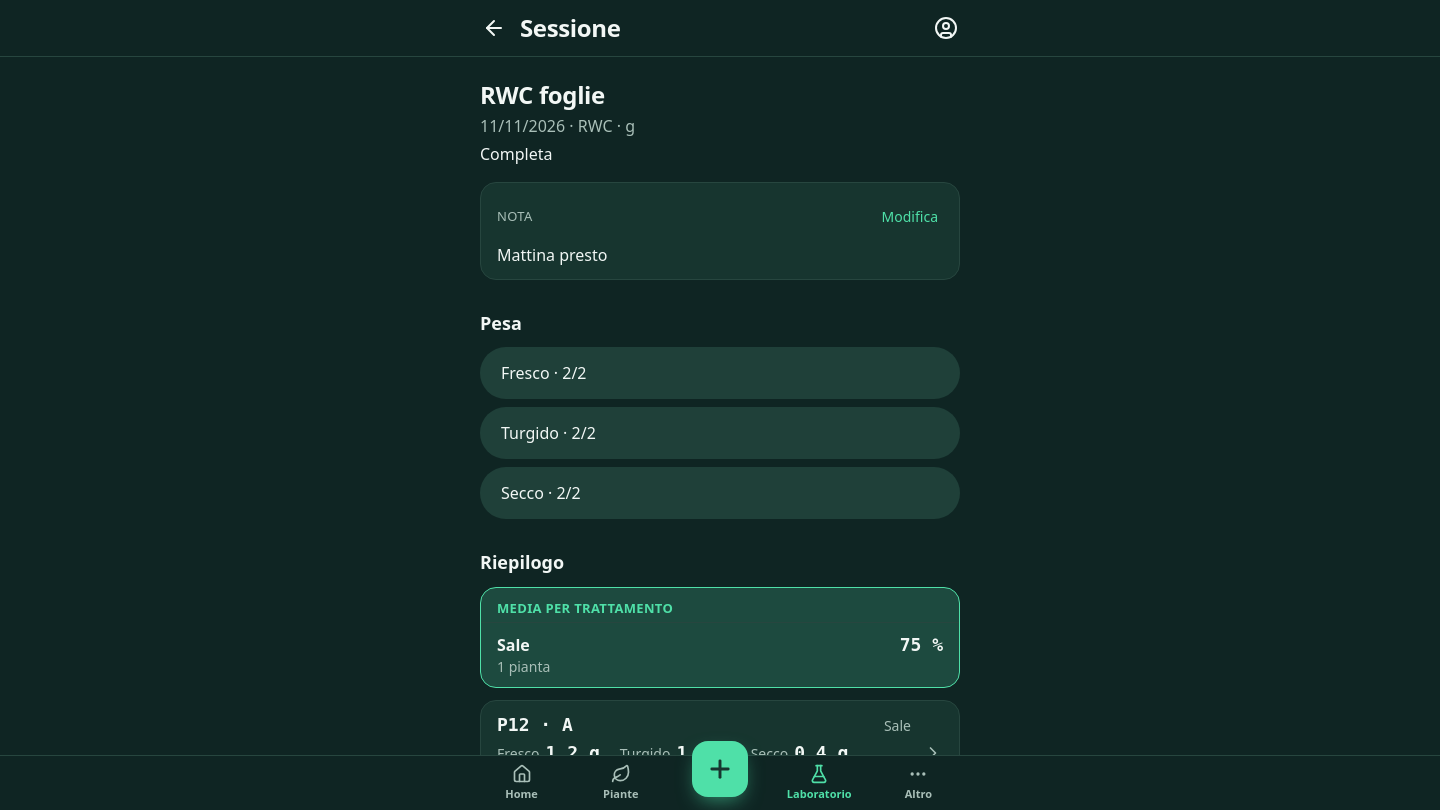
Test: Sessione › una nota svuotata si toglie; un errore lascia il testo nel campo
This screenshot has width=1440, height=810.
Click the button "Modifica" at (910, 217), box [869, 195, 951, 239]
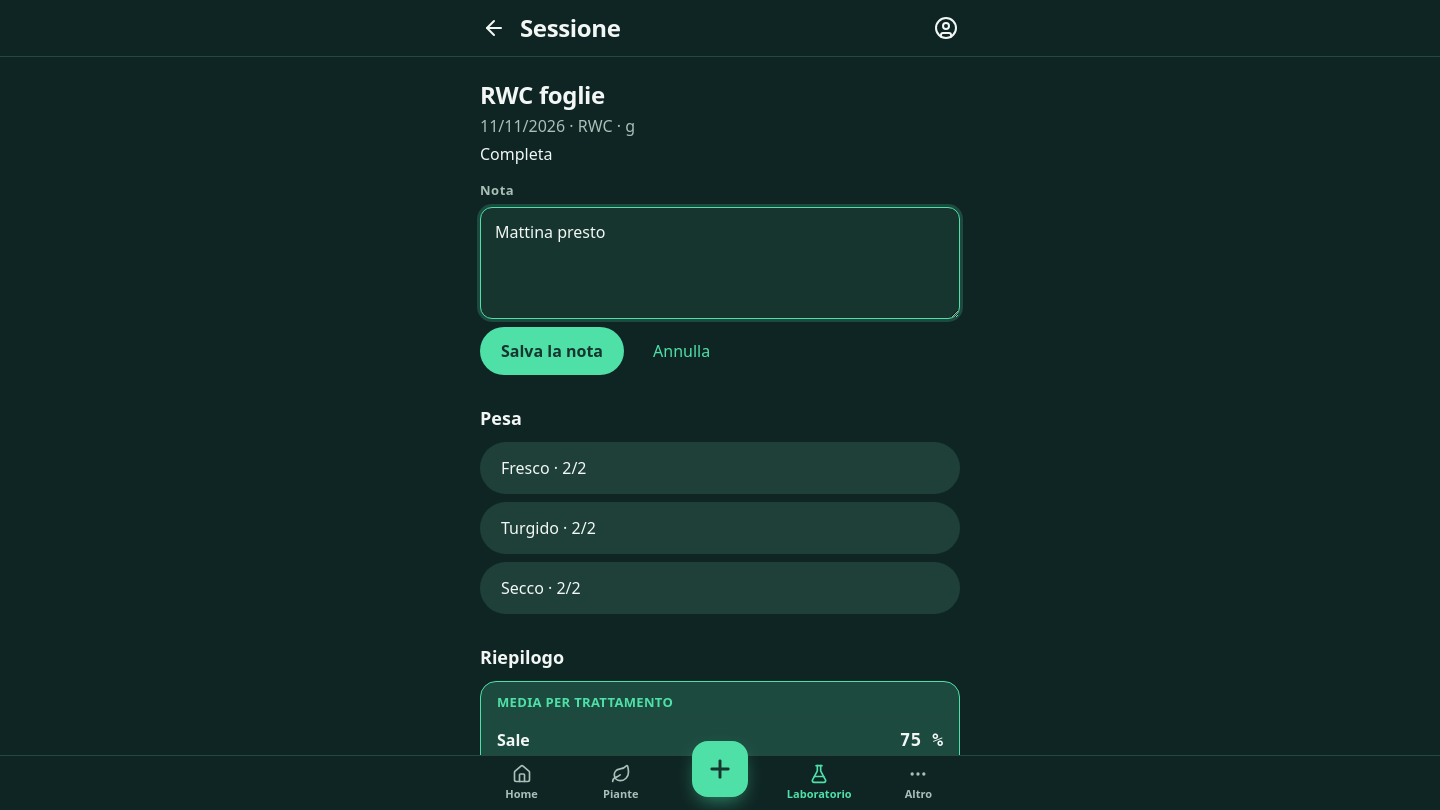
Clear the text box labelled "Nota" at (720, 263), box [480, 207, 960, 319]
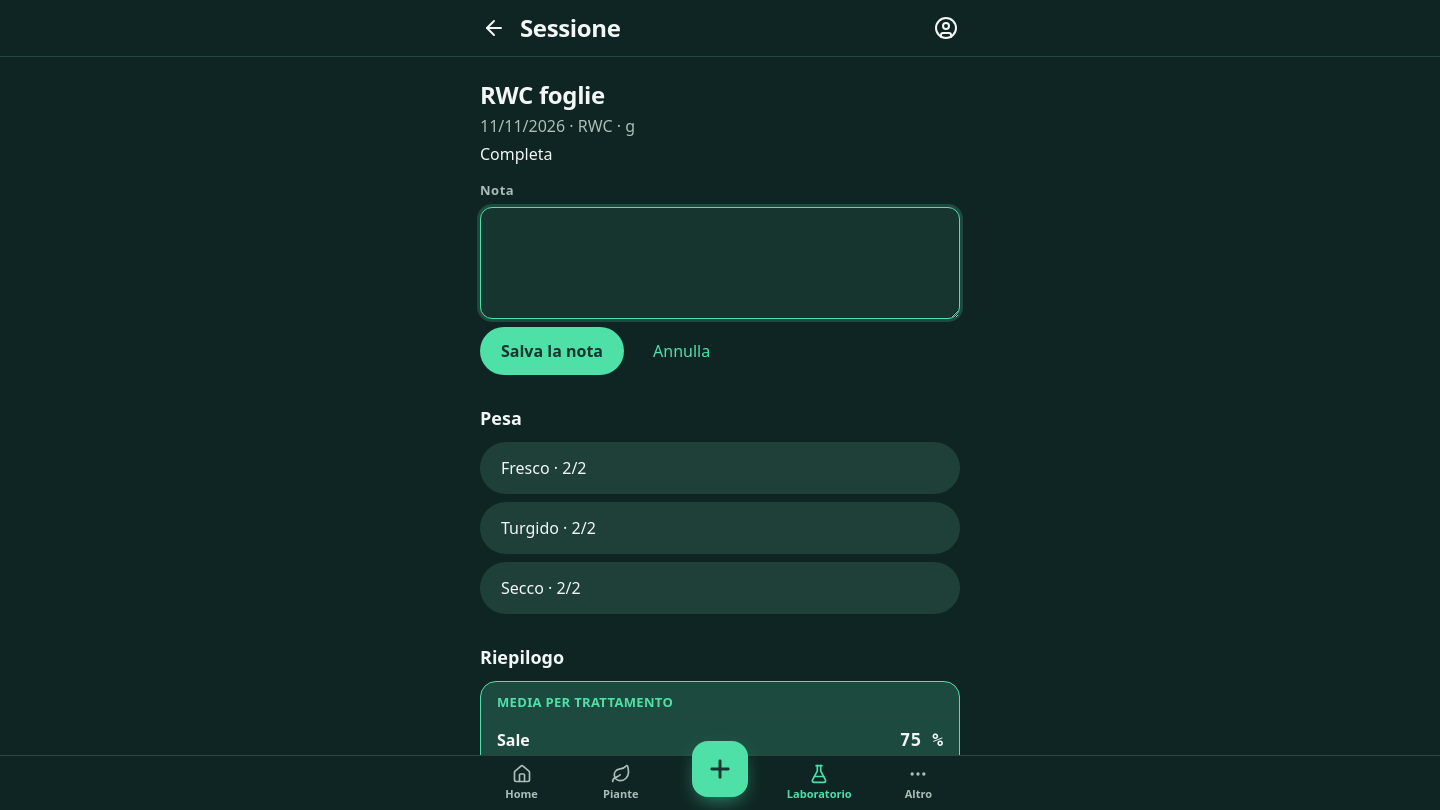
Click the button "Salva la nota" at (552, 351), box [480, 327, 624, 375]
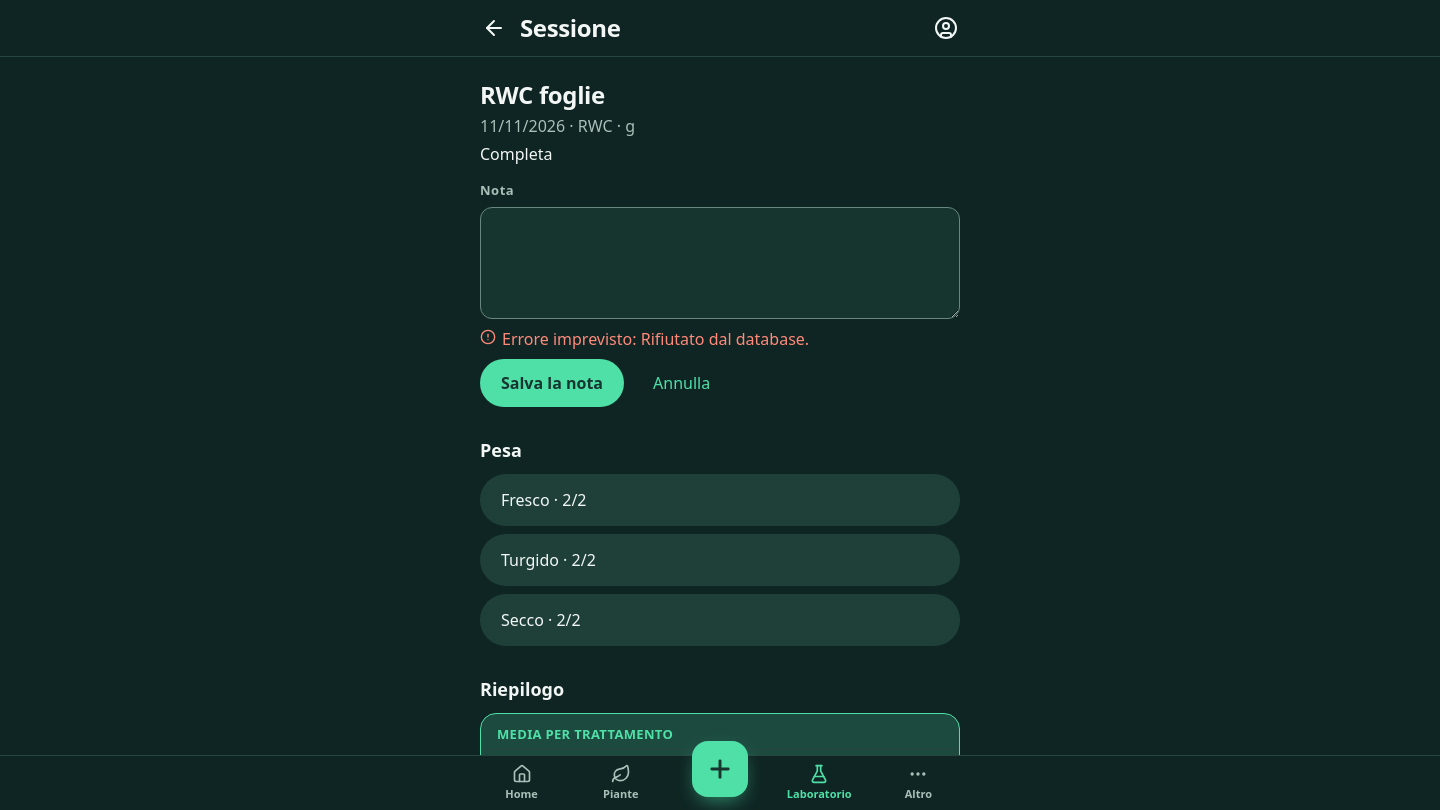
Expected: the message "Errore imprevisto: Rifiutato dal database." is shown, [480, 328, 809, 350]
